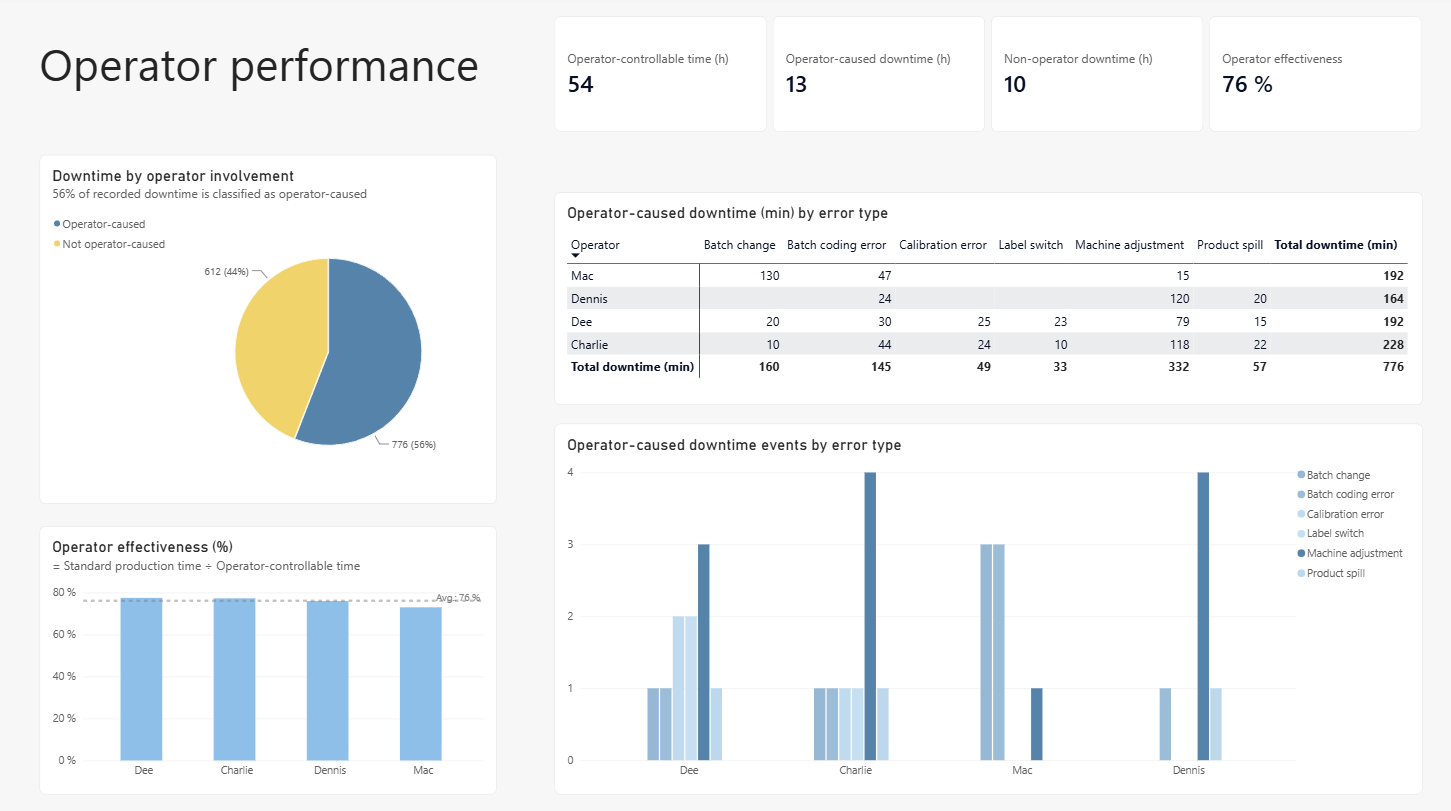

What the dashboard file says about the page in this screenshot:
{"tool":"powerbi","page":{"name":"Operator performance","canvas":[1920,1080],"ordinal":1},"visuals":[{"type":"pieChart","title":"Downtime by operator involvement","fields":{"Y":["Sum(Line downtime.Downtime (min))"],"Category":["Downtime factors.Error type"]},"box":[55.6,209,603.3,460.4],"z":0},{"type":"textbox","box":[55.6,50.3,629.8,103.2],"z":1000},{"type":"clusteredColumnChart","title":"Operator effectiveness (%)","fields":{"Category":["Line productivity.Operator"],"Y":["_Measures table.Operator effectivity"]},"box":[55.6,698.6,603.3,354.6],"z":2000},{"type":"cardVisual","fields":{"Data":["_Measures table.Operator controllable time (hours)","_Measures table.Operator caused downtime (hours)","_Measures table.Non-operator downtime (hours)","_Measures table.Operator effectivity"]},"box":[735.6,26.5,1145.8,153.5],"z":3000},{"type":"clusteredColumnChart","title":"Operator-caused downtime events by error type","fields":{"Category":["Line productivity.Operator"],"Series":["Downtime factors.Description"],"Y":["CountNonNull(Line downtime.Downtime (min))"]},"box":[735.6,563.6,1145.8,489.5],"z":4000},{"type":"pivotTable","title":"Operator-caused downtime (min) by error type","fields":{"Rows":["Line productivity.Operator"],"Columns":["Downtime factors.Description"],"Values":["Sum(Line downtime.Downtime (min))"]},"box":[735.6,259.3,1145.8,280.5],"z":6000}]}

Visuals, with their boxes in screenshot pixels (x1, y1, x2, y2), scaled from the page's 1920x1080 canvas onto the 1451x811 screenshot:
"Downtime by operator involvement" pieChart: 42:157:498:503
textbox: 42:38:518:115
"Operator effectiveness (%)" clusteredColumnChart: 42:525:498:791
cardVisual - _Measures table.Operator controllable time (hours) x _Measures table.Operator caused downtime (hours): 556:20:1422:135
"Operator-caused downtime events by error type" clusteredColumnChart: 556:423:1422:791
"Operator-caused downtime (min) by error type" pivotTable: 556:195:1422:405
